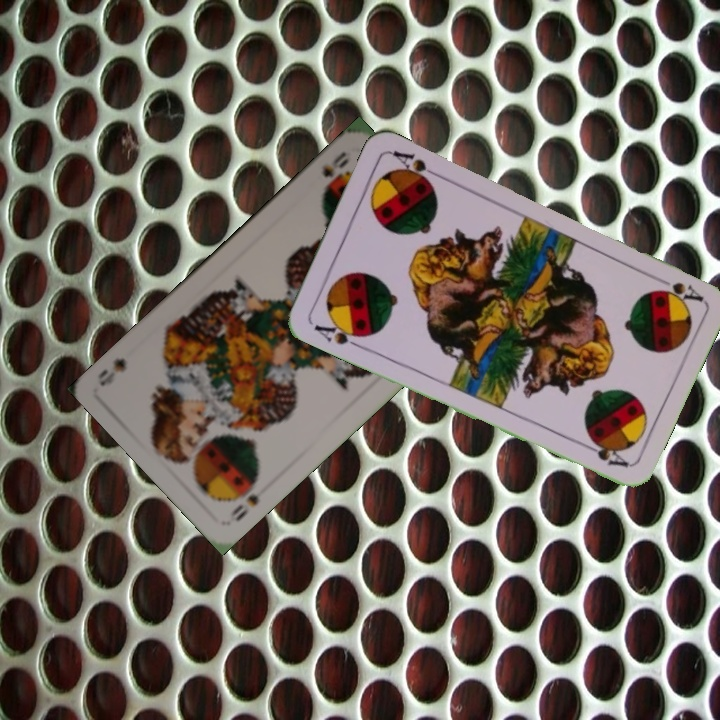SA: (310, 315, 368, 351), (649, 271, 706, 305)
SO: (225, 490, 262, 526), (318, 147, 352, 181)
